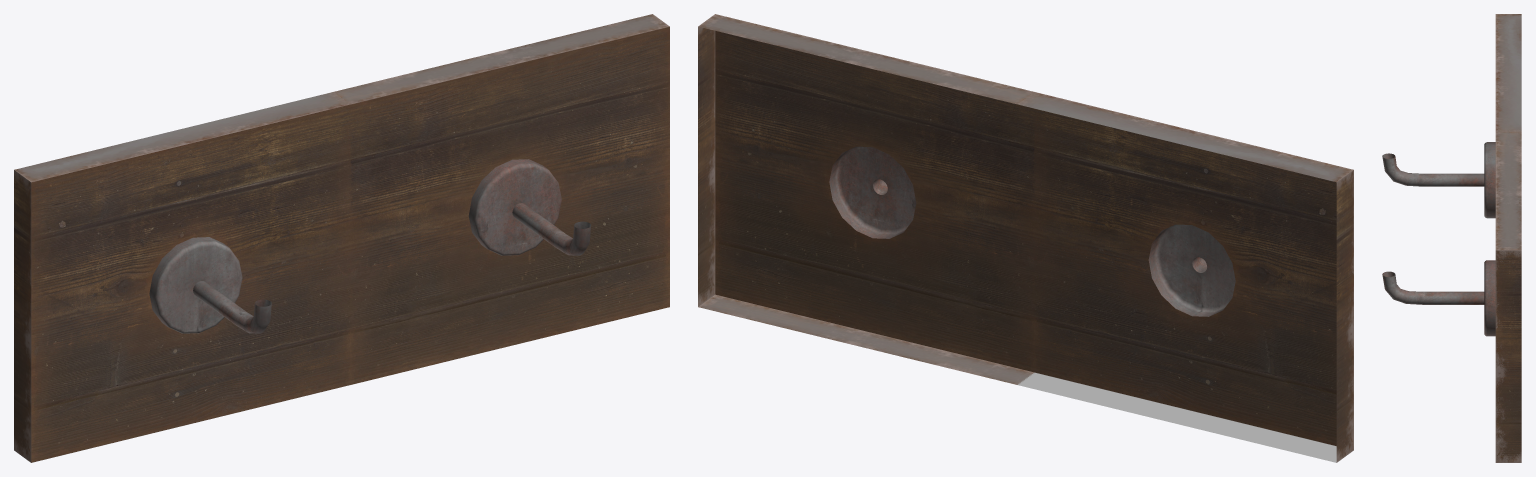
Rendered from wooden_hook_rack_-_small.fbx.
The picture shows the model from 3 angles, left to right: view 1: azimuth 30°, elevation 25°; view 2: azimuth 150°, elevation 25°; view 3: azimuth 270°, elevation 25°; orthographic projection. The views are drawn at different scales.
Parts seen in each view (by area): view 1: SM_plank_hook.002; view 2: SM_plank_hook.002; view 3: SM_plank_hook.002.
Part boxes in pixels (x1=…): SM_plank_hook.002: x1=14, y1=14, x2=669, y2=462; SM_plank_hook.002: x1=698, y1=14, x2=1353, y2=462; SM_plank_hook.002: x1=1382, y1=14, x2=1521, y2=462.
Size of the model in its own units: 48.06 by 20.18 by 11.98.
1 material, 1 textured.
